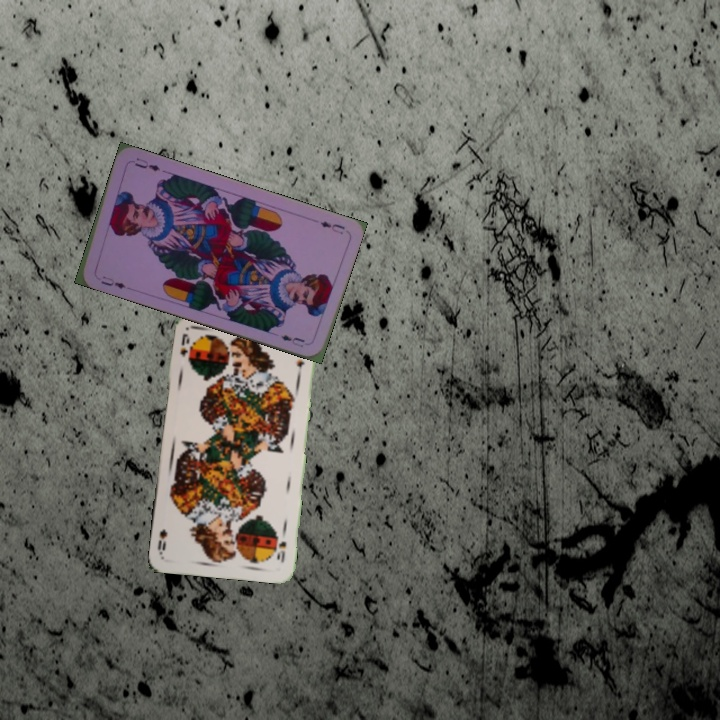EU: (316, 217, 347, 237), (97, 272, 128, 291)
SO: (273, 531, 289, 565), (176, 329, 192, 359)
